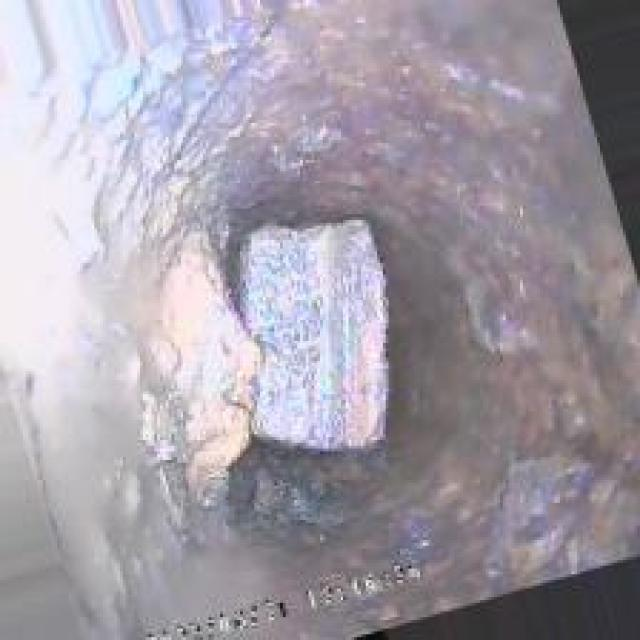stone: (237, 208, 392, 468)
